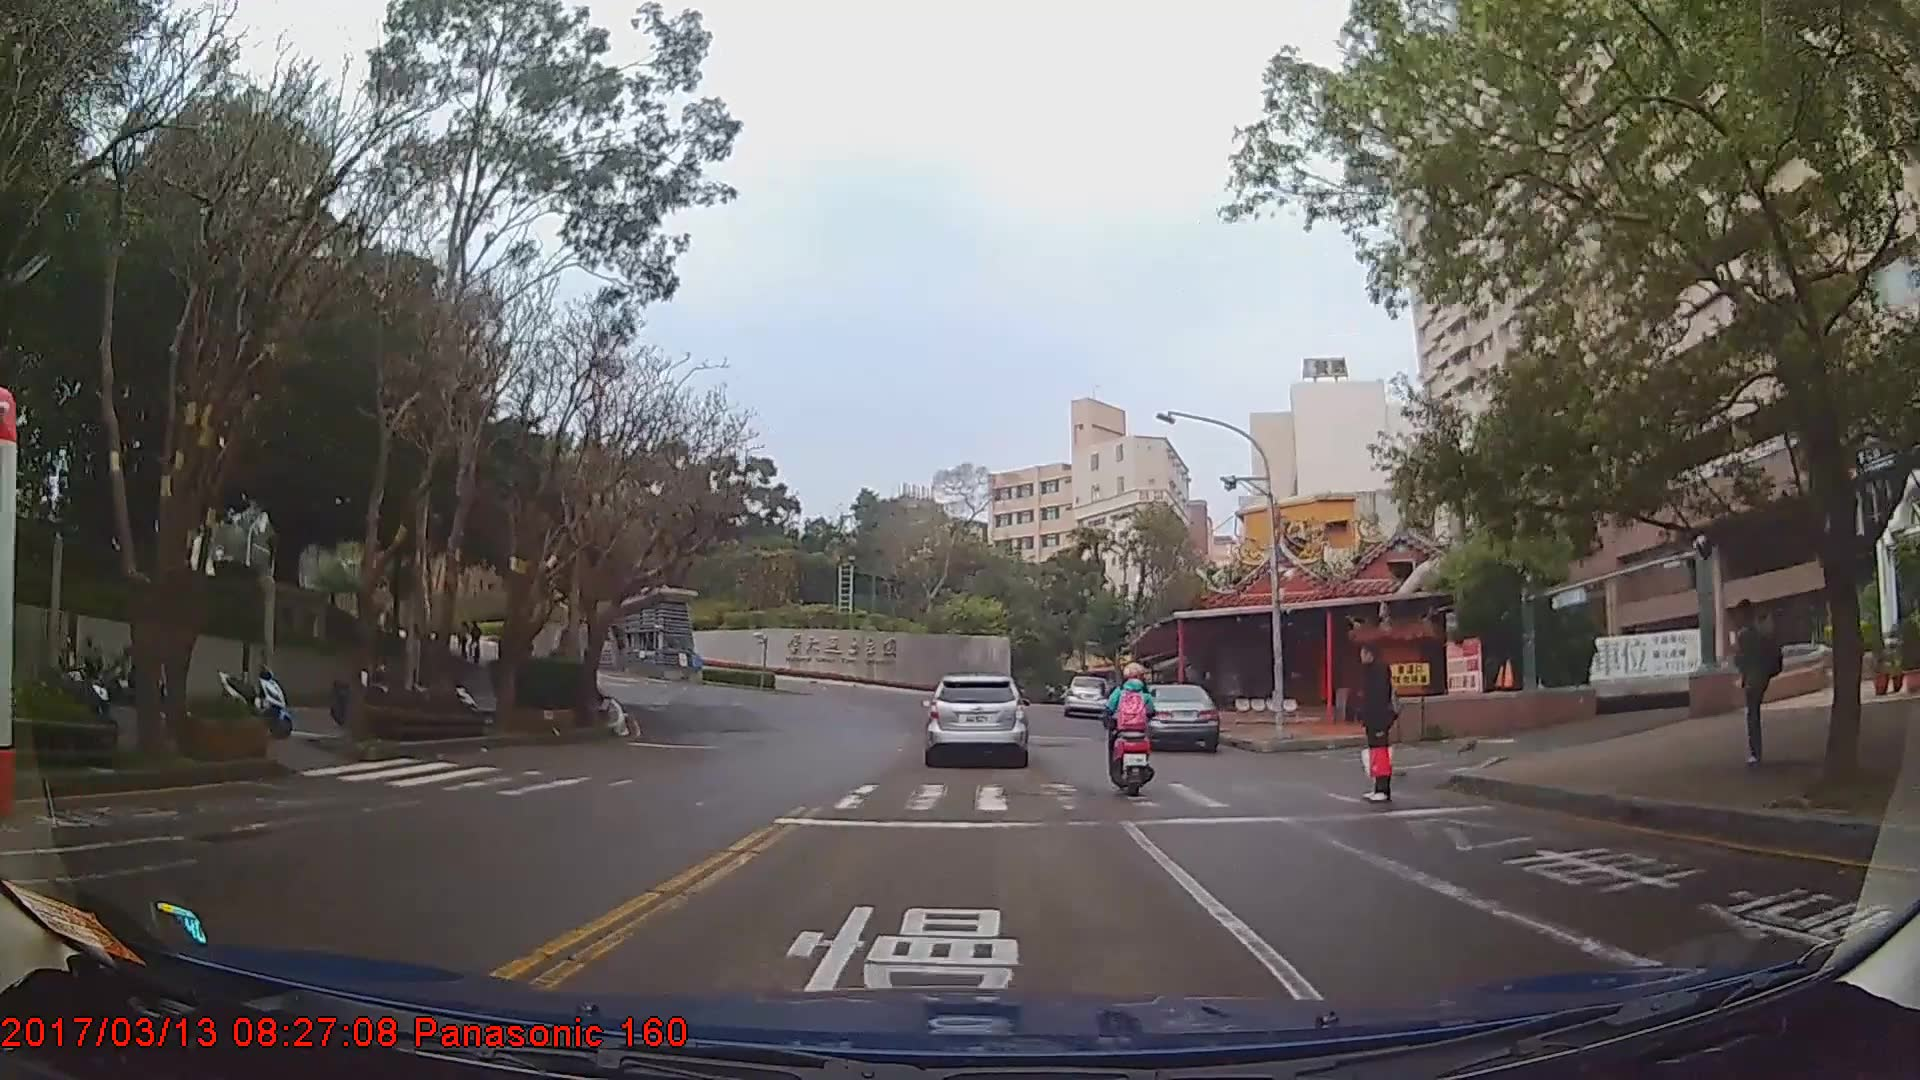pedestrian: (1727, 595, 1785, 761), (1354, 638, 1405, 808)
rider: (1102, 668, 1163, 805)
vehicle: (926, 675, 1027, 771), (1132, 680, 1221, 753), (1064, 676, 1111, 720)
